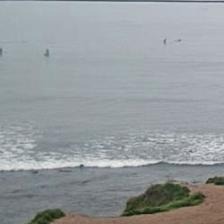surfer: (44, 48, 50, 58), (0, 48, 4, 55), (163, 38, 167, 45)
